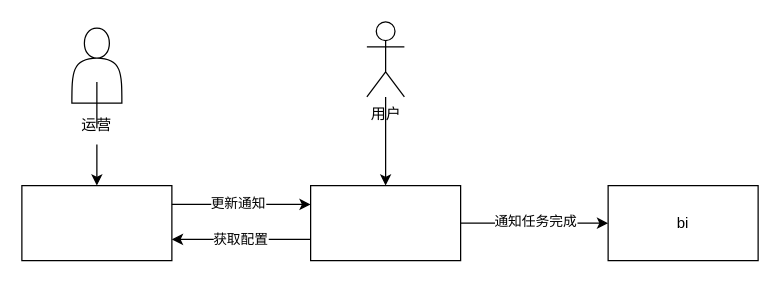
Image size: 780x283. Some labels were removed from this diagram. Here are the shapes that lost their labels. From the top down, the centre of each, then its label:
(96,222): kaola-marketms-web
(385,222): fc-darter
